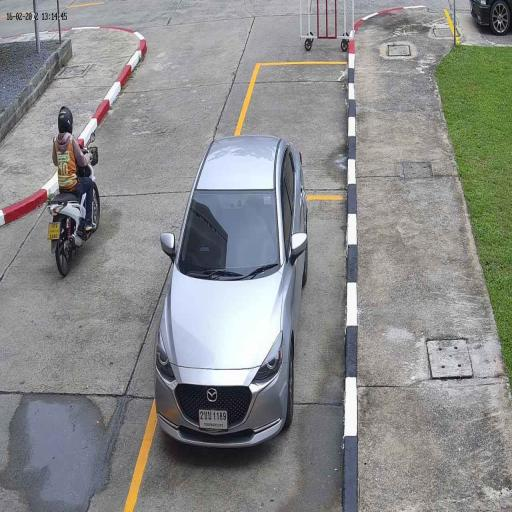car: (155, 137, 309, 450)
motorcycle: (46, 144, 101, 279)
